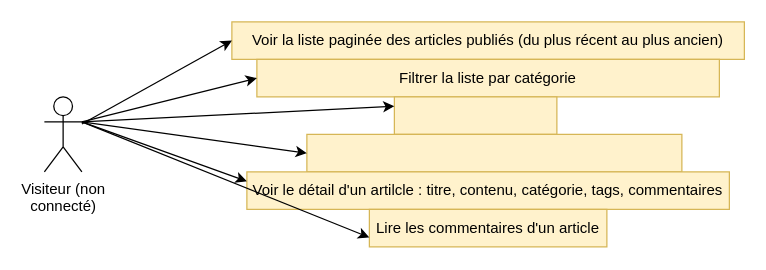
Some shapes in this 766 by 270 pixel diagram are drawn without their labels. The shapes that lost their labels are listed below. From the top down, each one's box as (x1, y1, x2, y2) in pixels, then its label:
(393, 96, 557, 134): Filtrer la liste par tag
(306, 133, 682, 172): Combiner les filtres catégorie et tag simultanément
